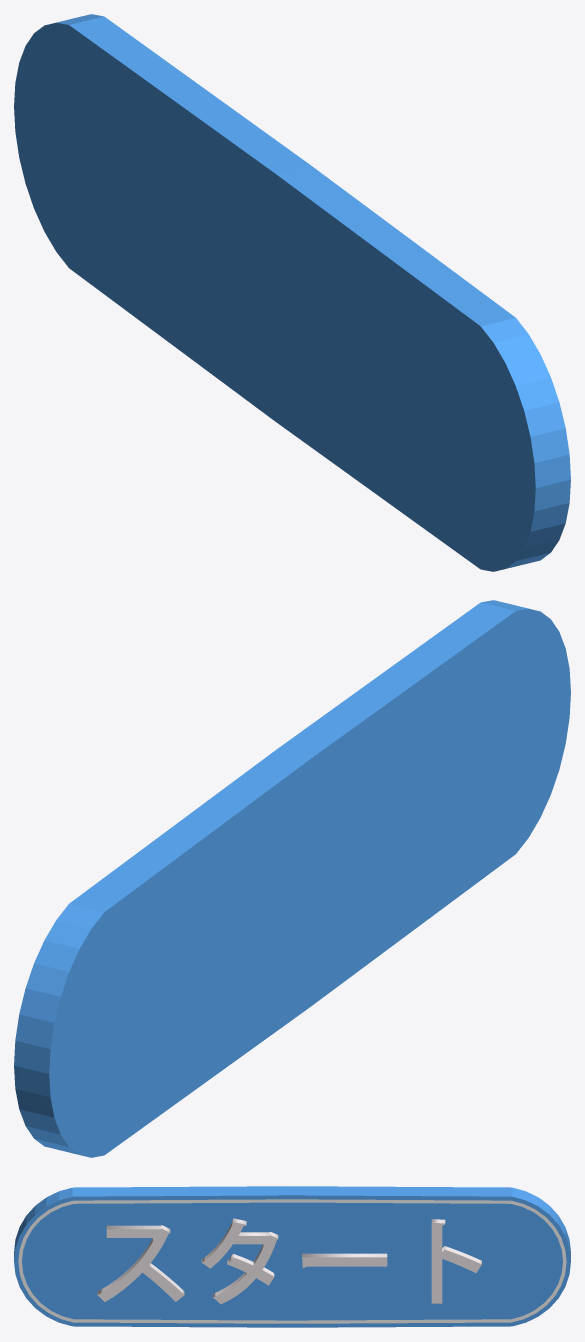
Rendered from start_button.glb.
3 views of the same model, one above another, from view 1: azimuth 30°, elevation 25°; view 2: azimuth 150°, elevation 25°; view 3: azimuth 270°, elevation 25° (orthographic). The views are drawn at different scales.
Visible parts, largest first — view 1: 円柱; view 2: 円柱; view 3: 円柱, テキスト.
Boxes of the visible parts, x1,y1,x2,y2 form: 円柱: (14, 14, 570, 571); 円柱: (14, 600, 570, 1157); 円柱: (14, 1186, 570, 1327); テキスト: (97, 1218, 481, 1304).
Size of the model in its own units: 0.4161 by 2 by 7.63.
2 materials, 2 textured.
